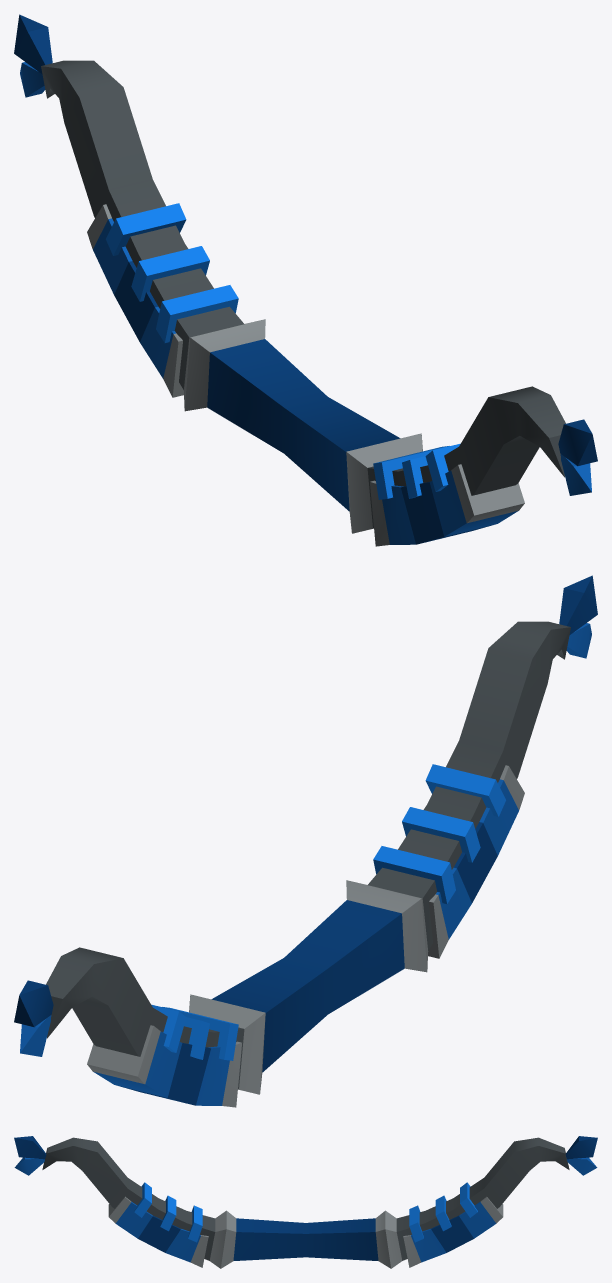
The model's file is Bow 02.FBX.
3 renders of one model, top to bottom at view 1: azimuth 30°, elevation 25°; view 2: azimuth 150°, elevation 25°; view 3: azimuth 270°, elevation 25°, orthographic. The views are drawn at different scales.
Visible parts, largest first — view 1: Bow 02; view 2: Bow 02; view 3: Bow 02.
Part boxes in pixels (<box>): Bow 02: <box>14,14,597,546</box>; Bow 02: <box>14,575,597,1107</box>; Bow 02: <box>14,1136,597,1268</box>.
Size of the model in its own units: 9.87 by 30.05 by 130.
1 material, 1 textured.
